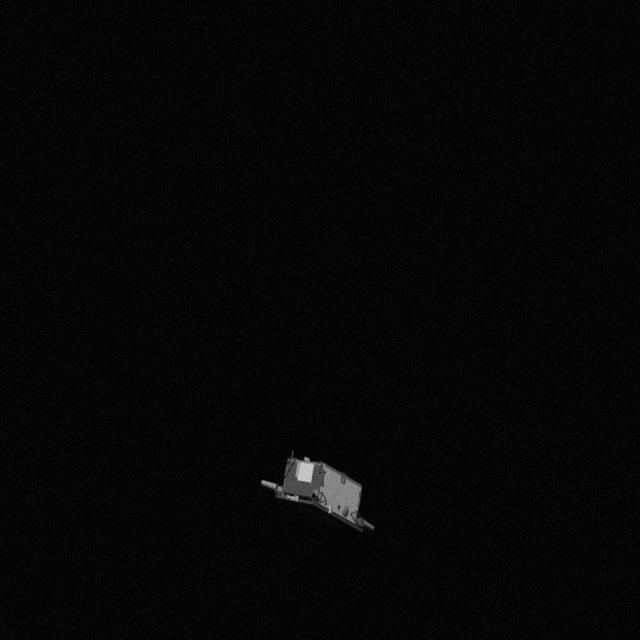satellite: (262, 454, 386, 534)
